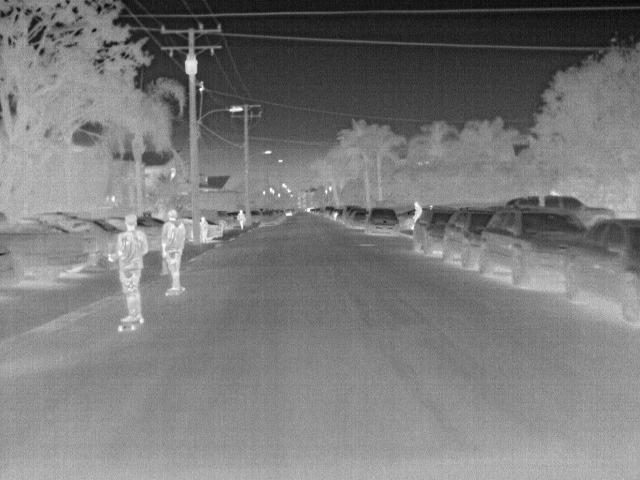car: (561, 218, 639, 329), (479, 211, 588, 289), (5, 231, 99, 282), (507, 193, 618, 229), (47, 218, 124, 266), (443, 208, 499, 270), (412, 208, 454, 256), (366, 209, 405, 236), (137, 218, 167, 253), (350, 210, 371, 230), (259, 209, 279, 228), (341, 205, 359, 225), (206, 221, 224, 239), (218, 212, 236, 230), (324, 206, 336, 218), (285, 207, 294, 218)
person: (107, 213, 151, 320), (160, 210, 189, 290), (199, 218, 211, 246), (413, 200, 426, 225), (235, 207, 247, 230)
